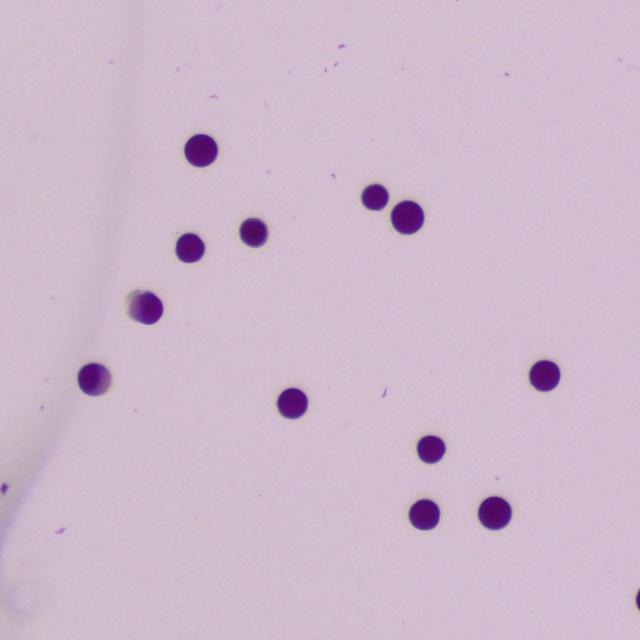viable: (478, 496, 511, 529), (391, 201, 424, 233), (129, 292, 162, 324), (185, 134, 217, 166), (78, 363, 110, 394), (529, 360, 560, 391), (409, 499, 439, 529), (277, 388, 307, 418), (176, 233, 205, 262), (240, 218, 268, 247), (417, 435, 445, 463), (362, 184, 388, 210)
